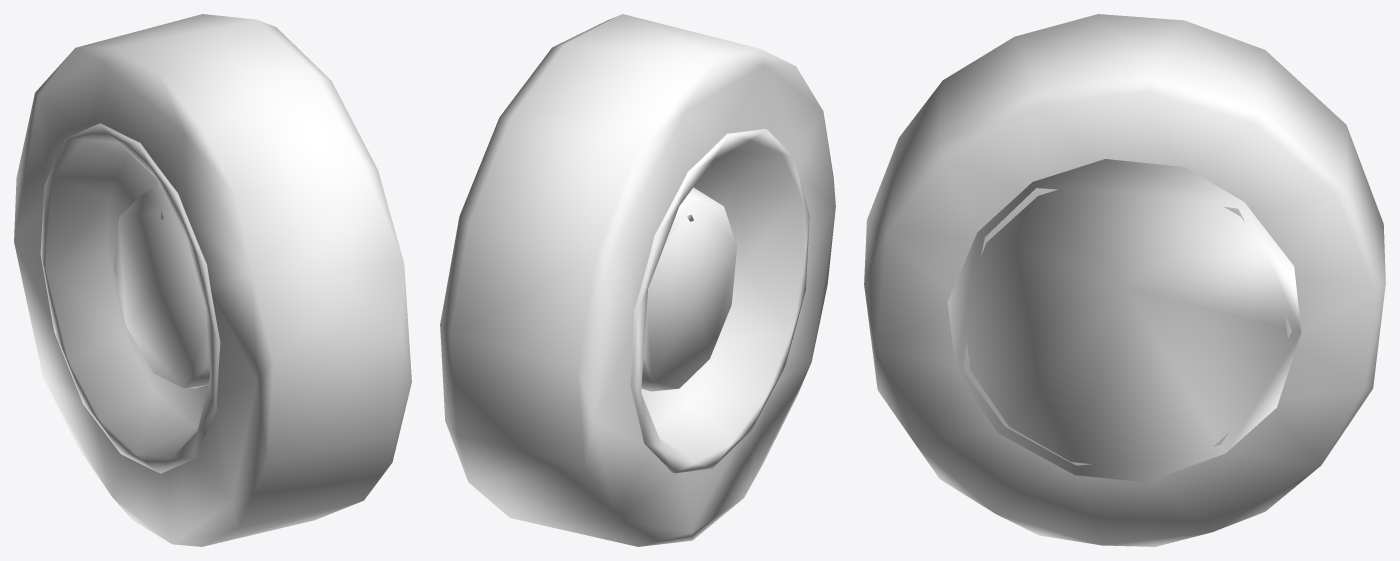
The picture shows the model from 3 angles, left to right: view 1: azimuth 30°, elevation 25°; view 2: azimuth 150°, elevation 25°; view 3: azimuth 270°, elevation 25°; orthographic projection.
Size of the model in its own units: 0.1933 by 0.5114 by 0.5114.
1 material, 1 textured.
